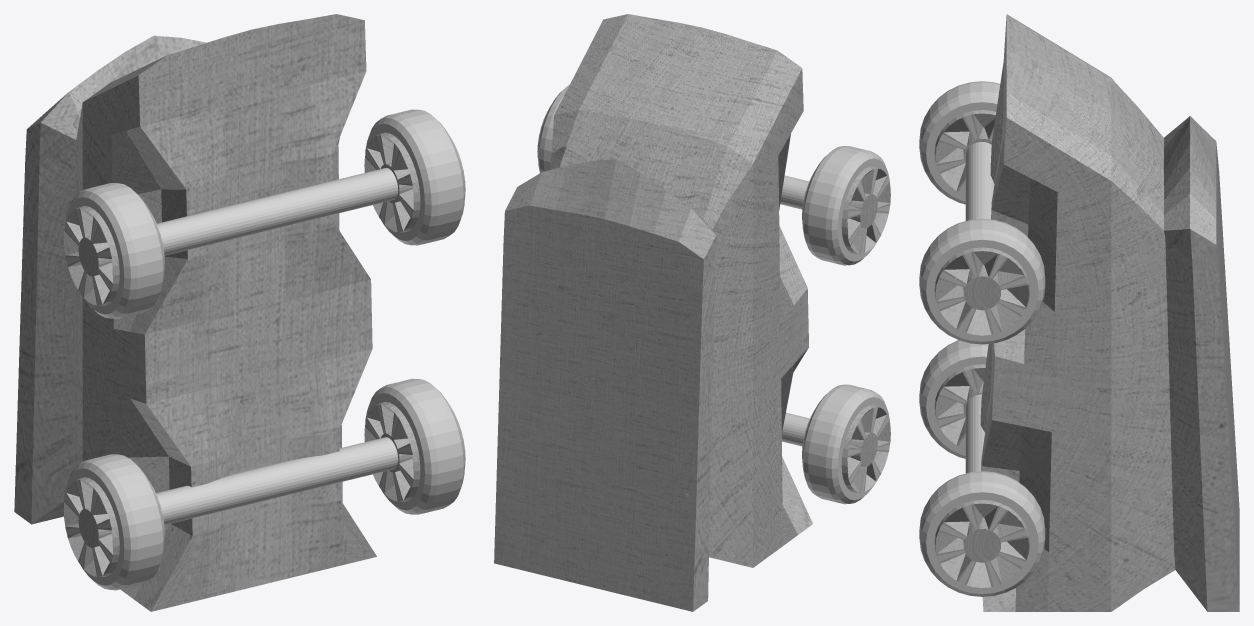
The model's file is robot0.fbx.
3 renders of one model, left to right at view 1: azimuth 30°, elevation 25°; view 2: azimuth 150°, elevation 25°; view 3: azimuth 270°, elevation 25°, orthographic. The views are drawn at different scales.
Visible parts, largest first — view 1: Robot, Rueda_BR, Rueda_FR, Rueda_FL, Rueda_BL, Eje_F, Eje_B; view 2: Robot, Rueda_BR, Rueda_FR, Rueda_FL, Eje_F, Eje_B; view 3: Robot, Rueda_FL, Rueda_BL, Rueda_FR, Rueda_BR, Eje_F, Eje_B.
Part boxes in pixels (bbox=[...]): Robot: bbox=[14, 14, 376, 611]; Rueda_BR: bbox=[63, 454, 164, 590]; Rueda_FR: bbox=[63, 183, 164, 318]; Rueda_FL: bbox=[364, 109, 465, 245]; Rueda_BL: bbox=[364, 378, 465, 514]; Eje_F: bbox=[157, 167, 398, 255]; Eje_B: bbox=[156, 437, 398, 524]; Robot: bbox=[494, 14, 812, 611]; Rueda_BR: bbox=[802, 384, 890, 504]; Rueda_FR: bbox=[802, 146, 890, 265]; Rueda_FL: bbox=[537, 85, 569, 172]; Eje_F: bbox=[780, 175, 808, 209]; Eje_B: bbox=[782, 412, 809, 446]; Robot: bbox=[980, 14, 1239, 611]; Rueda_FL: bbox=[919, 218, 1045, 344]; Rueda_BL: bbox=[919, 471, 1045, 596]; Rueda_FR: bbox=[919, 81, 1000, 204]; Rueda_BR: bbox=[919, 340, 988, 458]; Eje_F: bbox=[965, 142, 994, 220]; Eje_B: bbox=[965, 394, 984, 473].
Bounding box in the file's own units: 311 × 461 × 261.
